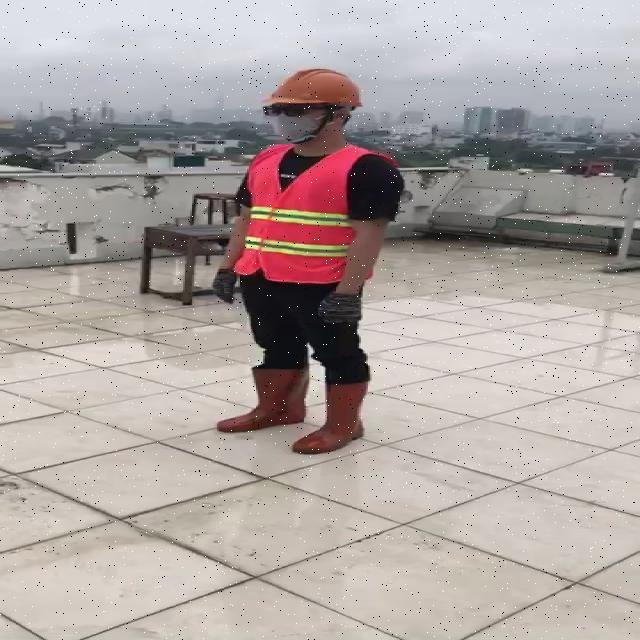Hard_hat: (258, 63, 372, 118)
Person: (211, 55, 410, 621)
Vest: (243, 141, 360, 286)
